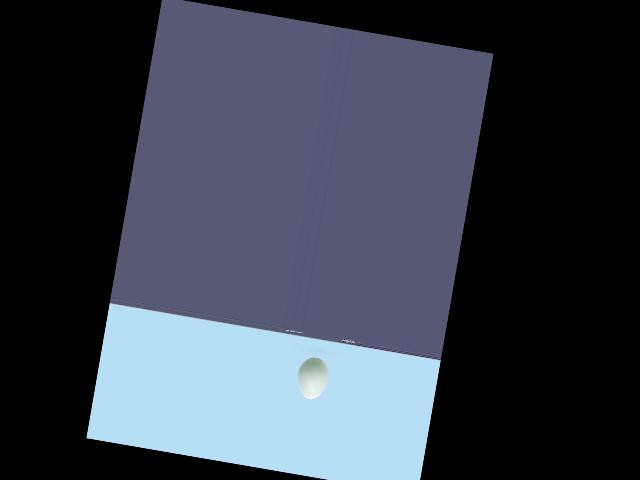egg: (293, 355, 331, 401)
